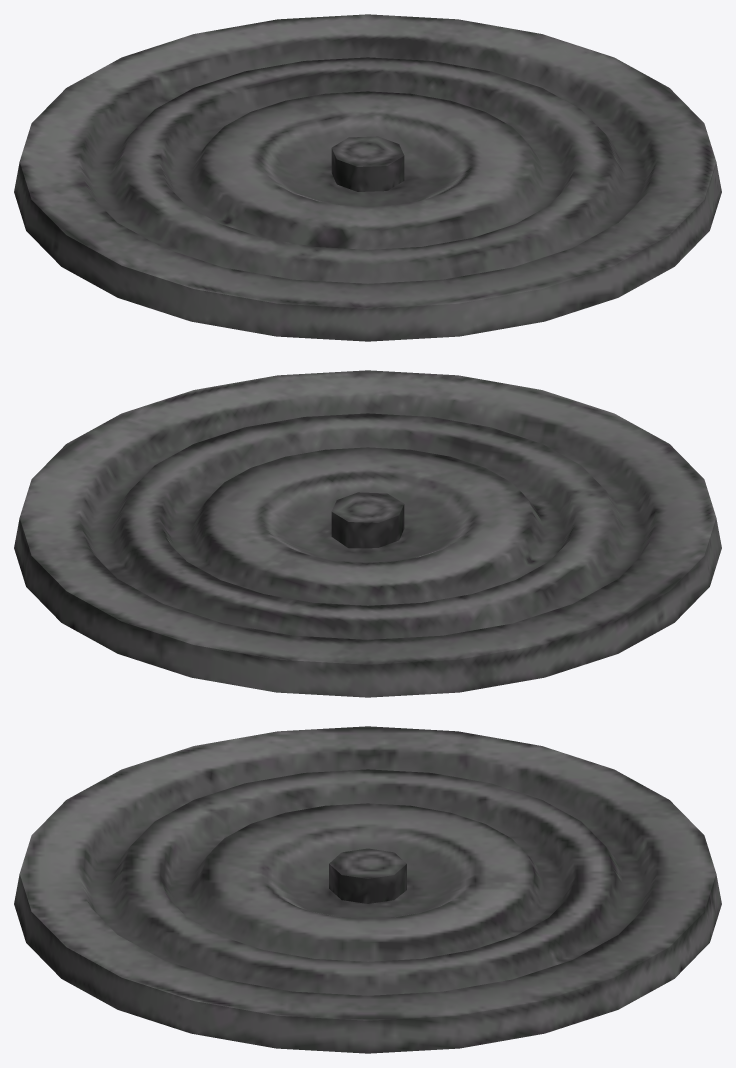
The model's file is trashBinLid01_black.FBX.
The picture shows the model from 3 angles, top to bottom: view 1: azimuth 30°, elevation 25°; view 2: azimuth 150°, elevation 25°; view 3: azimuth 270°, elevation 25°; orthographic projection.
Parts seen in each view (by area): view 1: SM_TrashBinLid; view 2: SM_TrashBinLid; view 3: SM_TrashBinLid.
Part boxes in pixels (x1,y1,x2,y2): SM_TrashBinLid: [14, 14, 721, 341]; SM_TrashBinLid: [14, 370, 721, 697]; SM_TrashBinLid: [14, 726, 721, 1053].
Size of the model in its own units: 64.43 by 4.05 by 64.43.
1 material, 1 textured.
